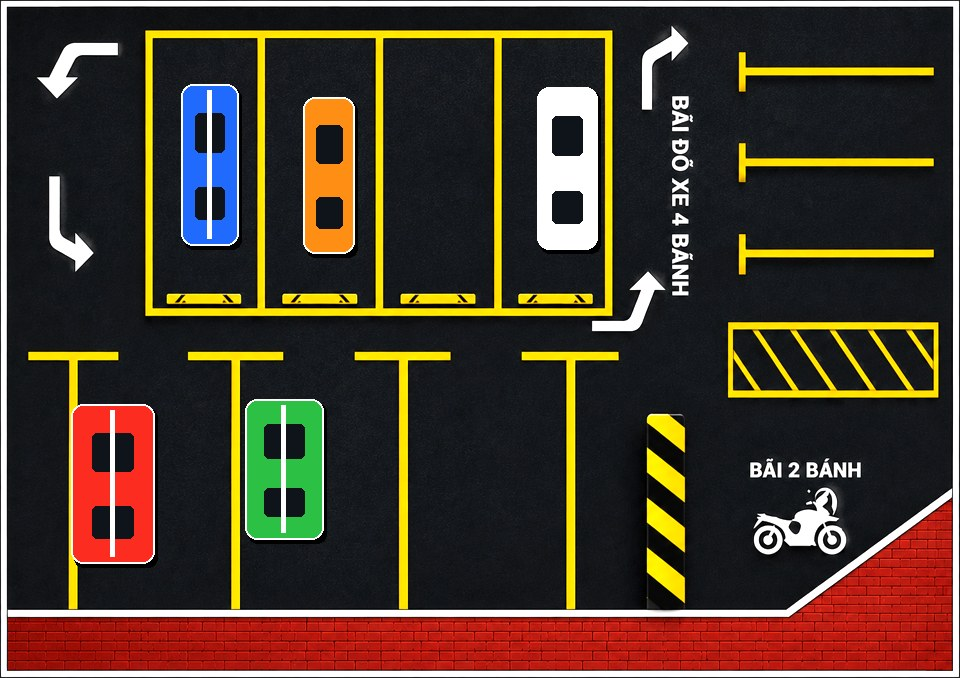empty: (360, 351, 518, 598), (524, 351, 672, 598), (386, 35, 505, 309)
occupied: (35, 351, 199, 598), (201, 351, 357, 598), (148, 35, 267, 309), (267, 35, 386, 309), (505, 35, 624, 309)
